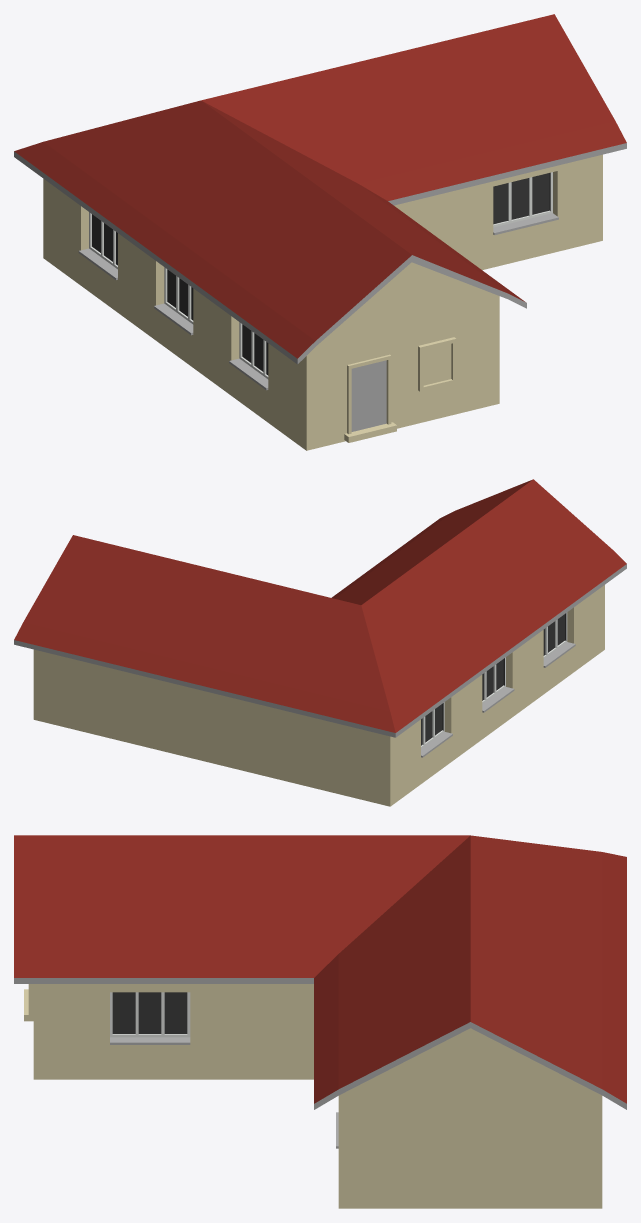
File: house_L.gltf
The picture shows the model from 3 angles, top to bottom: view 1: azimuth 30°, elevation 25°; view 2: azimuth 150°, elevation 25°; view 3: azimuth 270°, elevation 25°; orthographic projection. The views are drawn at different scales.
Visible parts, largest first — view 1: house_L; view 2: house_L; view 3: house_L.
Boxes of the visible parts, x1,y1,x2,y2 form: house_L: [14, 14, 626, 450]; house_L: [14, 479, 626, 806]; house_L: [14, 835, 626, 1208].
Bounding box in the file's own units: 11.54 × 4.21 × 12.11.
